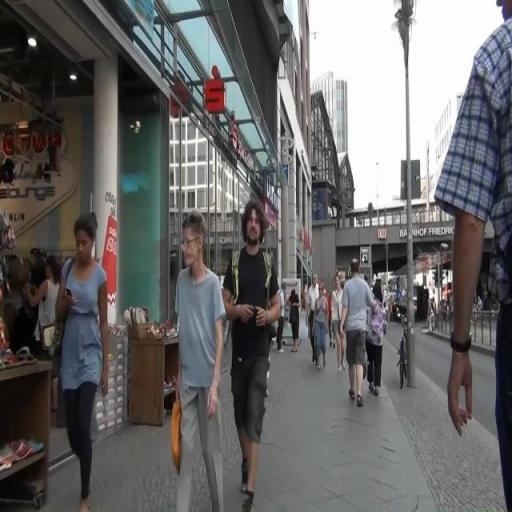person: (223, 200, 281, 512), (173, 211, 227, 512), (57, 212, 111, 511), (341, 260, 380, 409), (27, 257, 61, 414), (368, 282, 389, 395), (307, 271, 324, 364), (332, 276, 348, 373), (314, 284, 329, 371), (287, 286, 303, 355), (277, 280, 289, 355), (327, 289, 338, 347)
